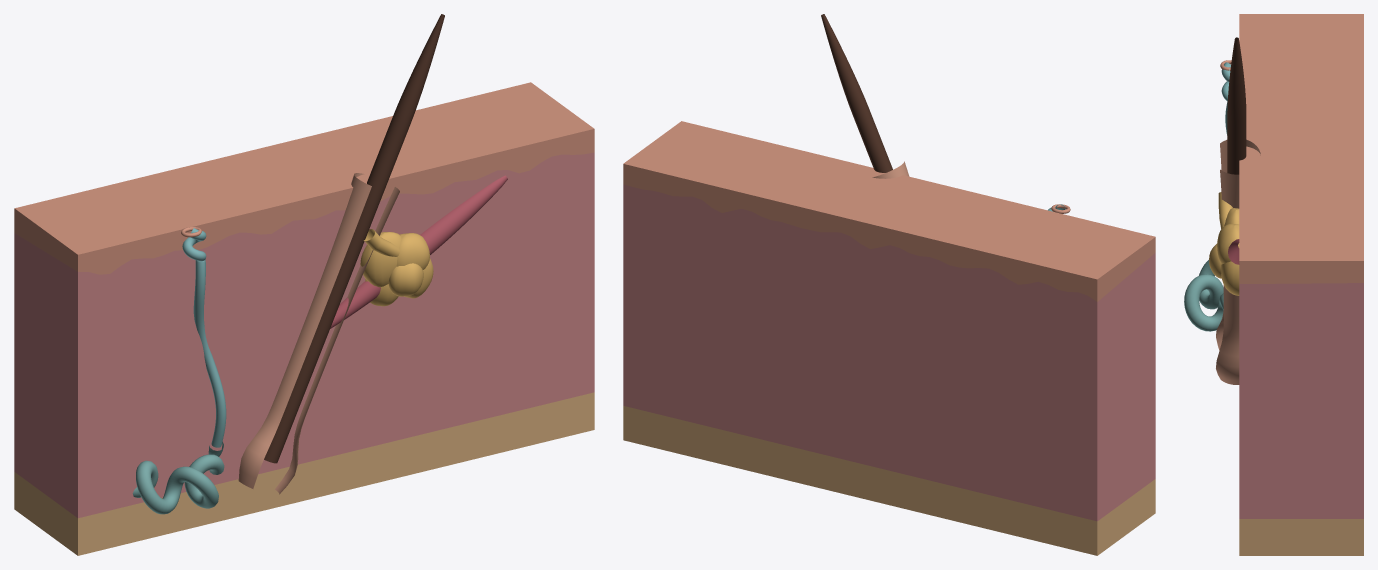
The model's file is skin-appendages.glb.
The picture shows the model from 3 angles, left to right: view 1: azimuth 30°, elevation 25°; view 2: azimuth 150°, elevation 25°; view 3: azimuth 270°, elevation 25°; orthographic projection. The views are drawn at different scales.
Visible parts, largest first — view 1: dermis, epidermis, subcutaneous, follicular_wall, hair, sebaceous_lobules, eccrine_coil, arrector_pili, sweat_duct; view 2: dermis, epidermis, subcutaneous, hair; view 3: epidermis, dermis, subcutaneous, follicular_wall, hair, eccrine_coil, sebaceous_lobules, sweat_duct, sebaceous_duct, arrector_pili.
Part boxes in pixels (x1=…): dermis: x1=14, y1=152, x2=594, y2=518; epidermis: x1=14, y1=82, x2=594, y2=274; subcutaneous: x1=14, y1=392, x2=594, y2=555; follicular_wall: x1=238, y1=173, x2=399, y2=494; hair: x1=264, y1=14, x2=444, y2=463; sebaceous_lobules: x1=360, y1=232, x2=433, y2=306; eccrine_coil: x1=132, y1=442, x2=224, y2=514; arrector_pili: x1=330, y1=175, x2=507, y2=328; sweat_duct: x1=182, y1=228, x2=226, y2=447; dermis: x1=623, y1=184, x2=1155, y2=521; epidermis: x1=623, y1=121, x2=1155, y2=301; subcutaneous: x1=623, y1=406, x2=1155, y2=555; hair: x1=821, y1=14, x2=892, y2=172; epidermis: x1=1239, y1=14, x2=1363, y2=283; dermis: x1=1239, y1=283, x2=1363, y2=518; subcutaneous: x1=1239, y1=519, x2=1363, y2=555; follicular_wall: x1=1216, y1=139, x2=1260, y2=384; hair: x1=1227, y1=37, x2=1246, y2=174; eccrine_coil: x1=1184, y1=260, x2=1223, y2=331; sebaceous_lobules: x1=1209, y1=208, x2=1239, y2=295; sweat_duct: x1=1221, y1=62, x2=1230, y2=135; sebaceous_duct: x1=1218, y1=192, x2=1232, y2=229; arrector_pili: x1=1228, y1=239, x2=1239, y2=264.
Size of the model in its own units: 0.00359 by 0.00302 by 0.0011.
